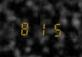eight: (18, 19, 31, 36)
five: (47, 20, 60, 37)
one: (33, 19, 46, 37)
